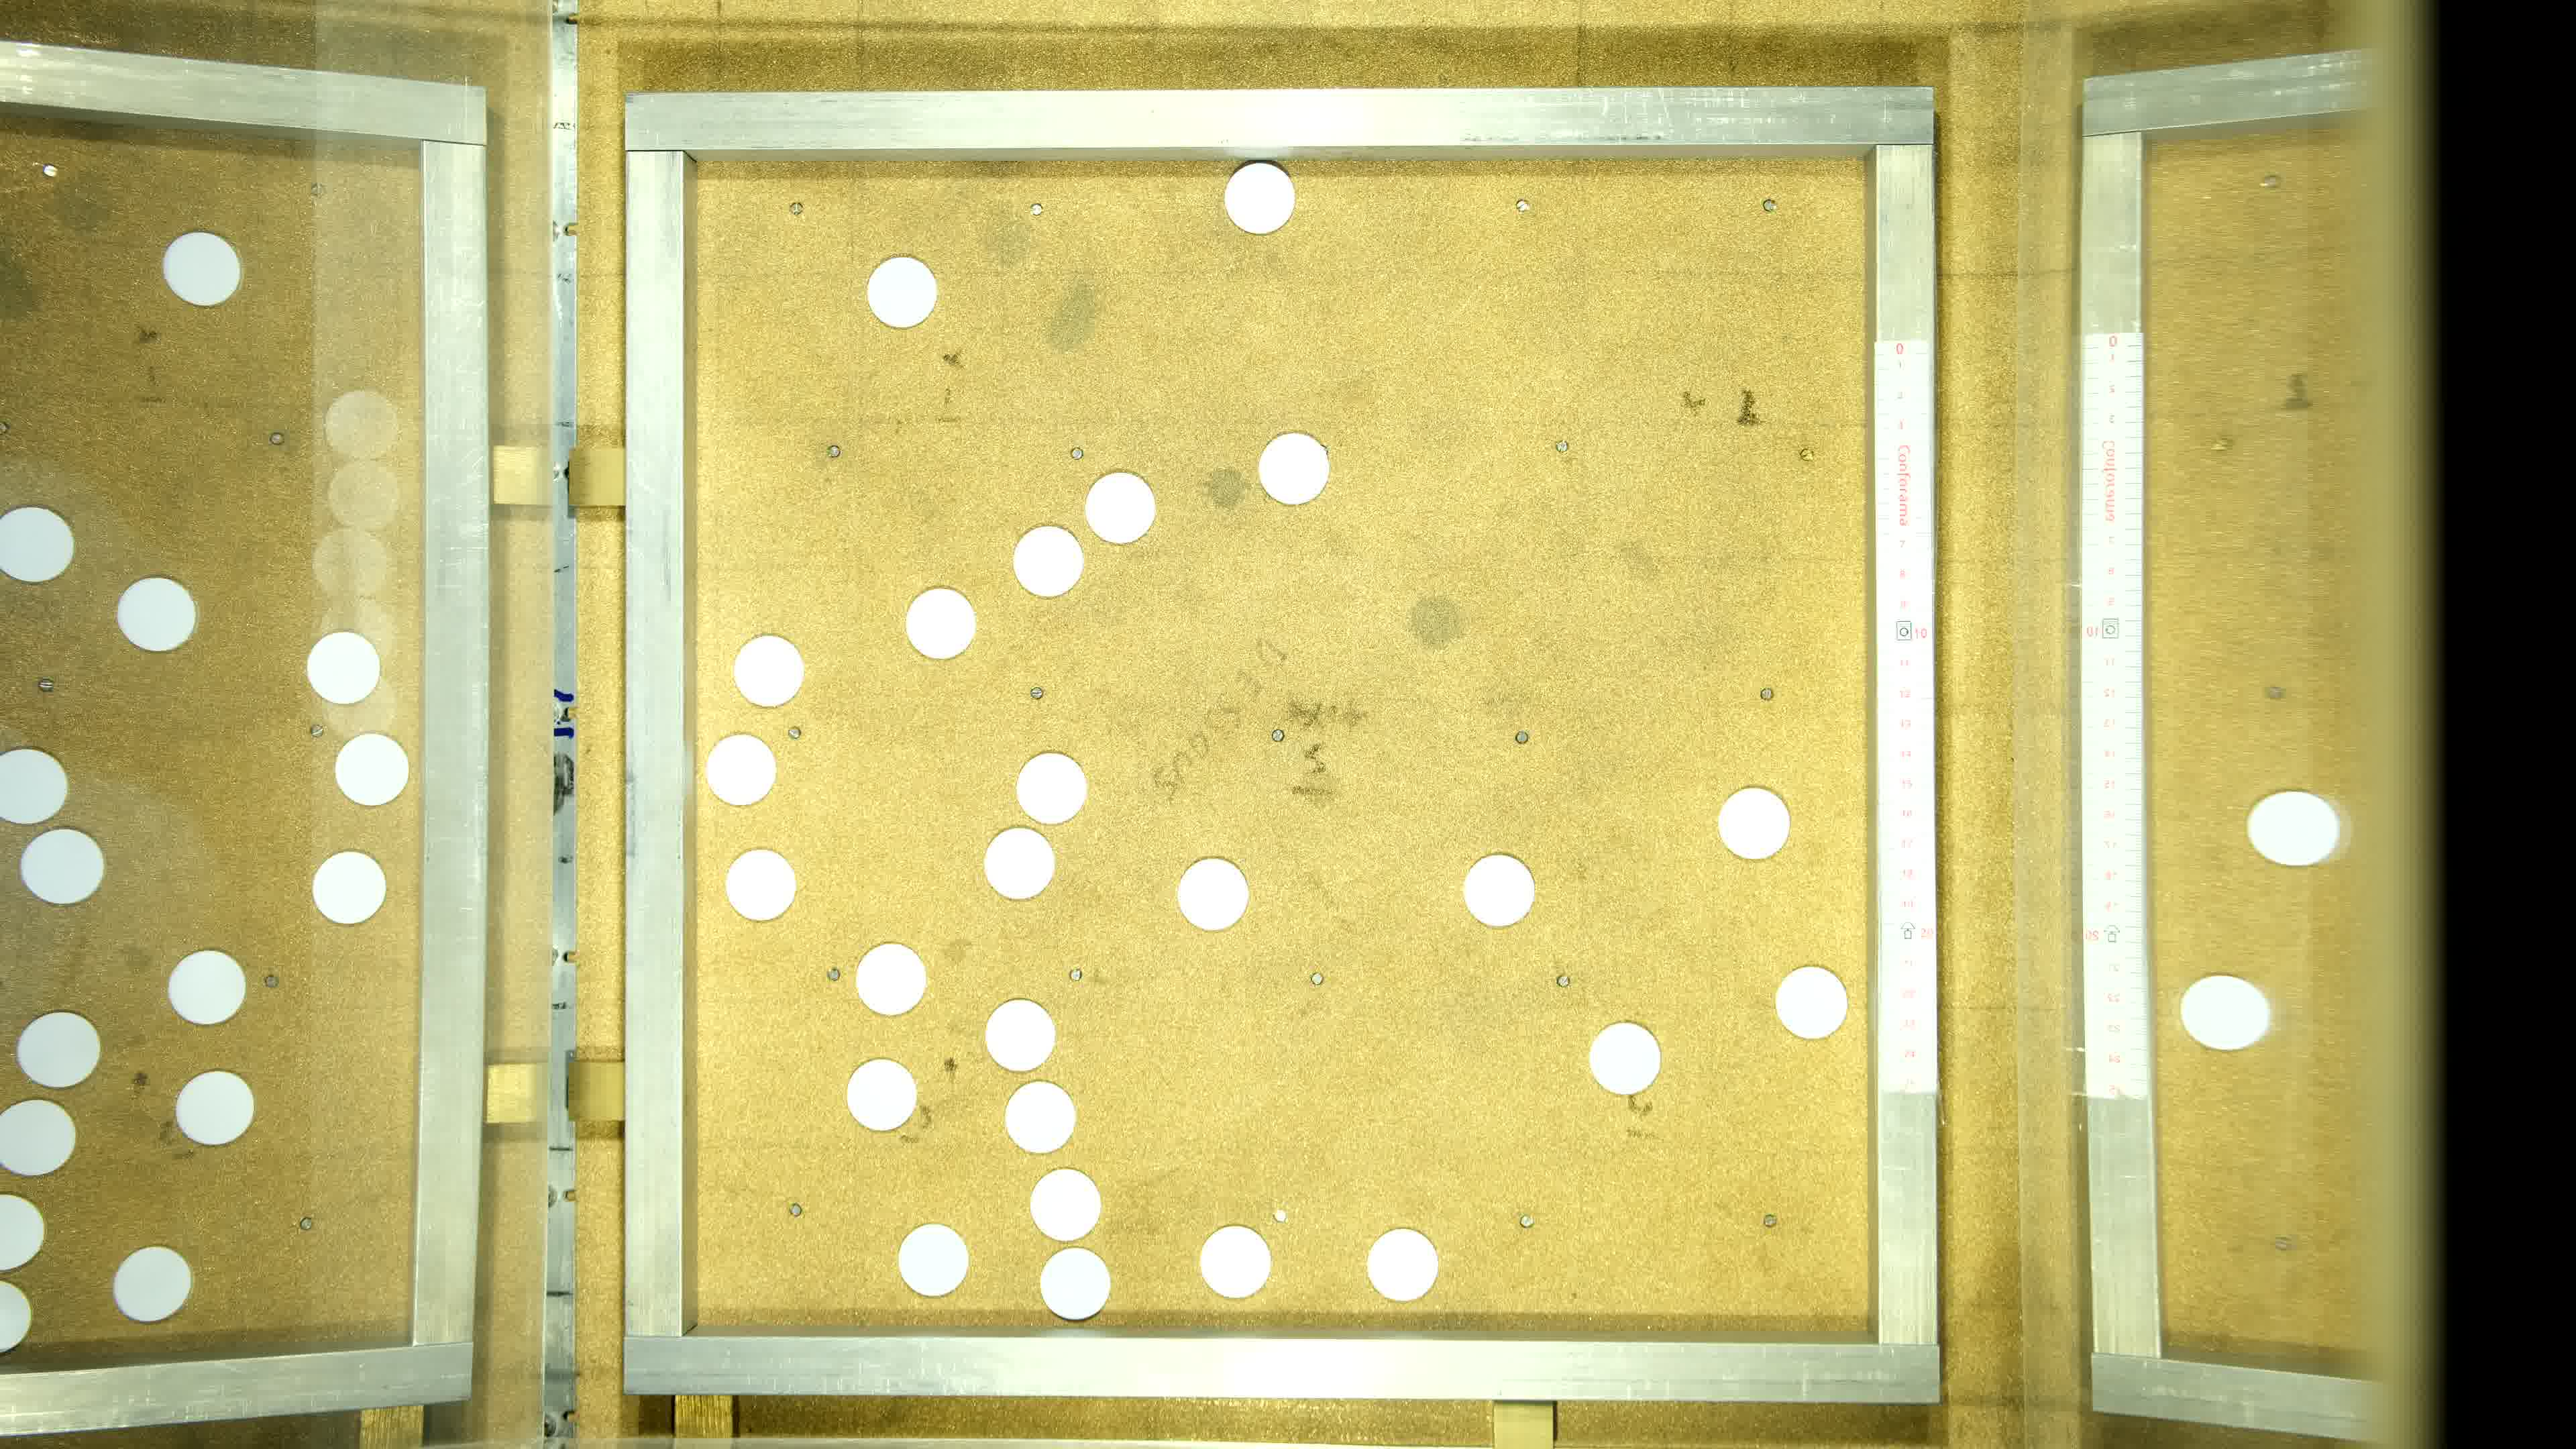pallet: (982, 826, 1056, 902), (1716, 784, 1790, 860), (1014, 750, 1088, 824), (731, 635, 805, 709), (1460, 853, 1534, 927), (1198, 1224, 1272, 1299), (1028, 1166, 1102, 1240), (1003, 1079, 1077, 1154), (1083, 471, 1157, 545), (844, 1058, 916, 1134), (706, 731, 778, 807), (904, 586, 977, 662), (1775, 962, 1847, 1039), (1039, 1246, 1111, 1322), (1366, 1226, 1438, 1302), (1258, 430, 1330, 506), (1223, 161, 1295, 237), (1178, 858, 1251, 932), (985, 998, 1058, 1072), (853, 941, 925, 1016), (724, 847, 796, 922), (1587, 1019, 1660, 1093), (897, 1223, 970, 1297), (865, 255, 938, 329), (1010, 524, 1083, 598)
